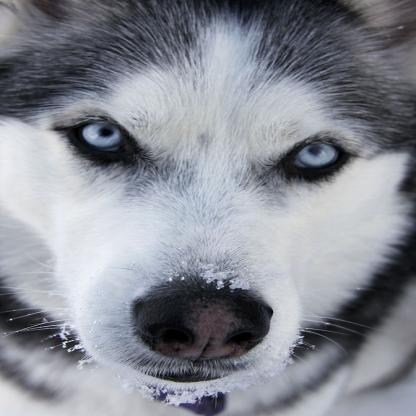dog: (0, 0, 415, 407)
